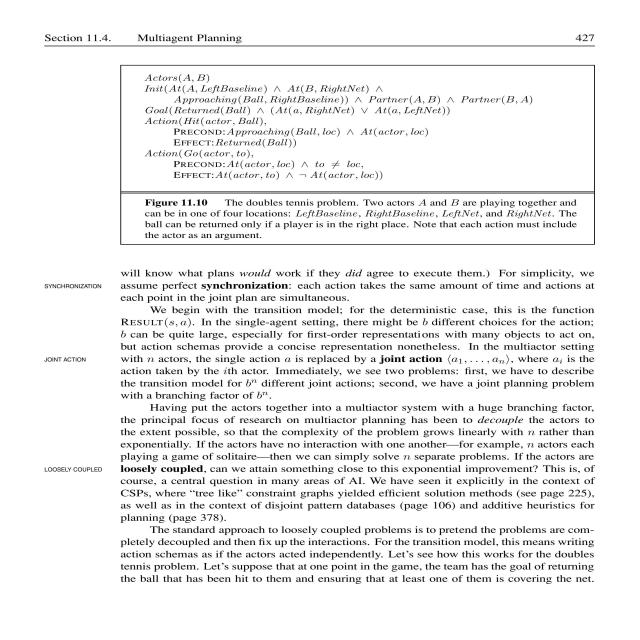diagram: (56, 59, 640, 258)
